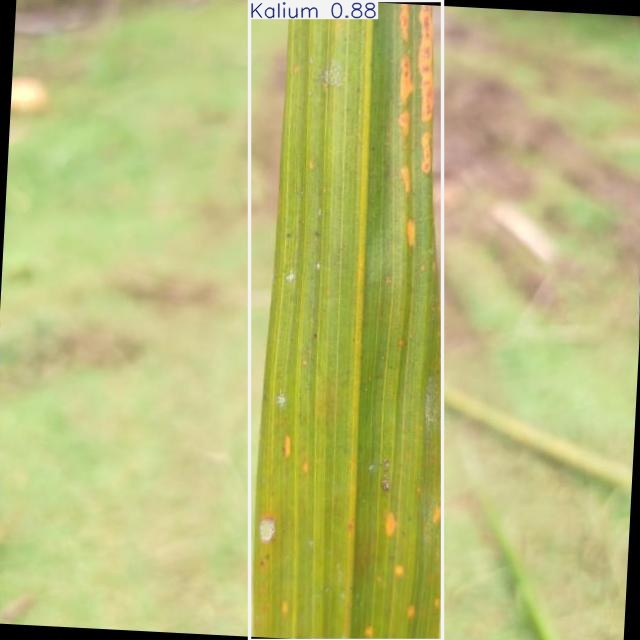Kalium: (249, 0, 443, 640)
